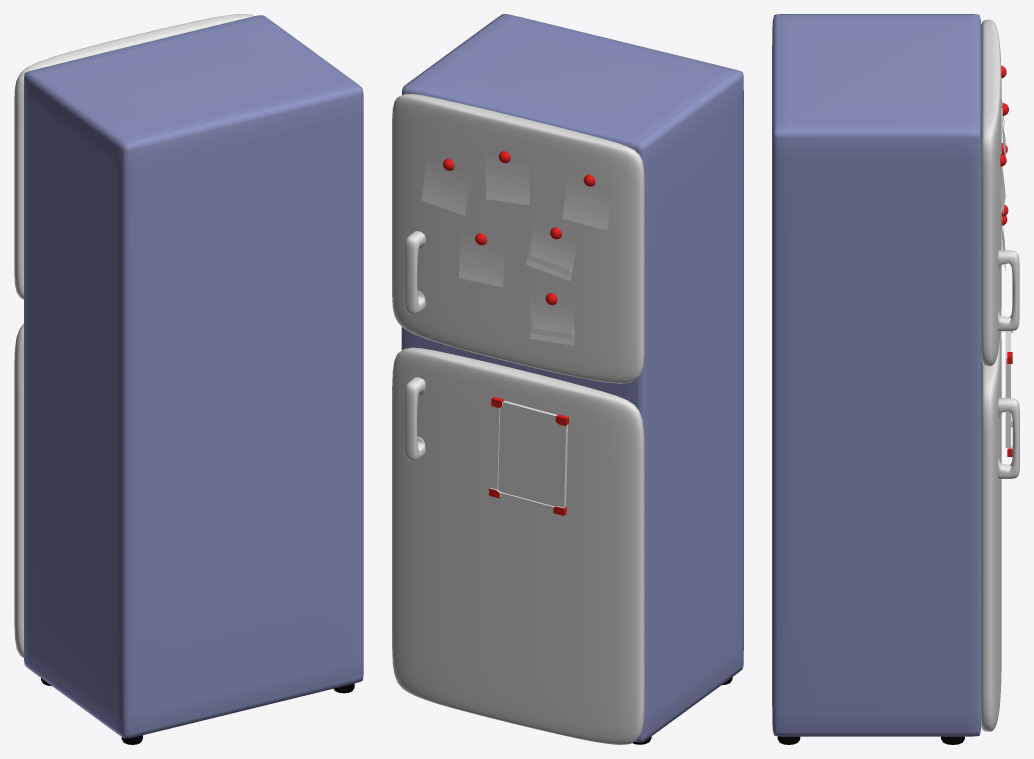
The model's file is Low Poly Fridge.fbx.
The picture shows the model from 3 angles, left to right: view 1: azimuth 30°, elevation 25°; view 2: azimuth 150°, elevation 25°; view 3: azimuth 270°, elevation 25°; orthographic projection.
Visible parts, largest first — view 1: Main Body, Puerta Freezer, Puerta Refri; view 2: Main Body, Puerta Refri, Puerta Freezer, To Do List, Foto Paris, Foto Piramides, Foto Machu Pichu, Foto Chichen Itza, Foto Muralla China, Foto NYC, Mango Refri, Mango Freezer; view 3: Main Body, Puerta Refri, Puerta Freezer, Mango Freezer, Mango Refri, To Do List.
Part boxes in pixels (x1,y1,x2,y2): Main Body: (24, 15, 363, 738); Puerta Freezer: (14, 14, 254, 299); Puerta Refri: (14, 323, 23, 657); Main Body: (401, 14, 743, 742); Puerta Refri: (392, 347, 644, 744); Puerta Freezer: (392, 94, 644, 383); To Do List: (489, 397, 568, 515); Foto Paris: (421, 156, 469, 215); Foto Piramides: (562, 174, 610, 230); Foto Machu Pichu: (526, 222, 577, 280); Foto Chichen Itza: (529, 293, 574, 345); Foto Muralla China: (459, 233, 503, 287); Foto NYC: (484, 154, 529, 205); Mango Refri: (404, 377, 425, 461); Mango Freezer: (404, 231, 425, 314); Main Body: (772, 14, 981, 736); Puerta Refri: (981, 331, 1001, 731); Puerta Freezer: (981, 19, 1001, 366); Mango Freezer: (998, 250, 1019, 331); Mango Refri: (998, 398, 1019, 478); To Do List: (1005, 331, 1012, 456).
Size of the model in its own units: 235 by 549 by 200.
